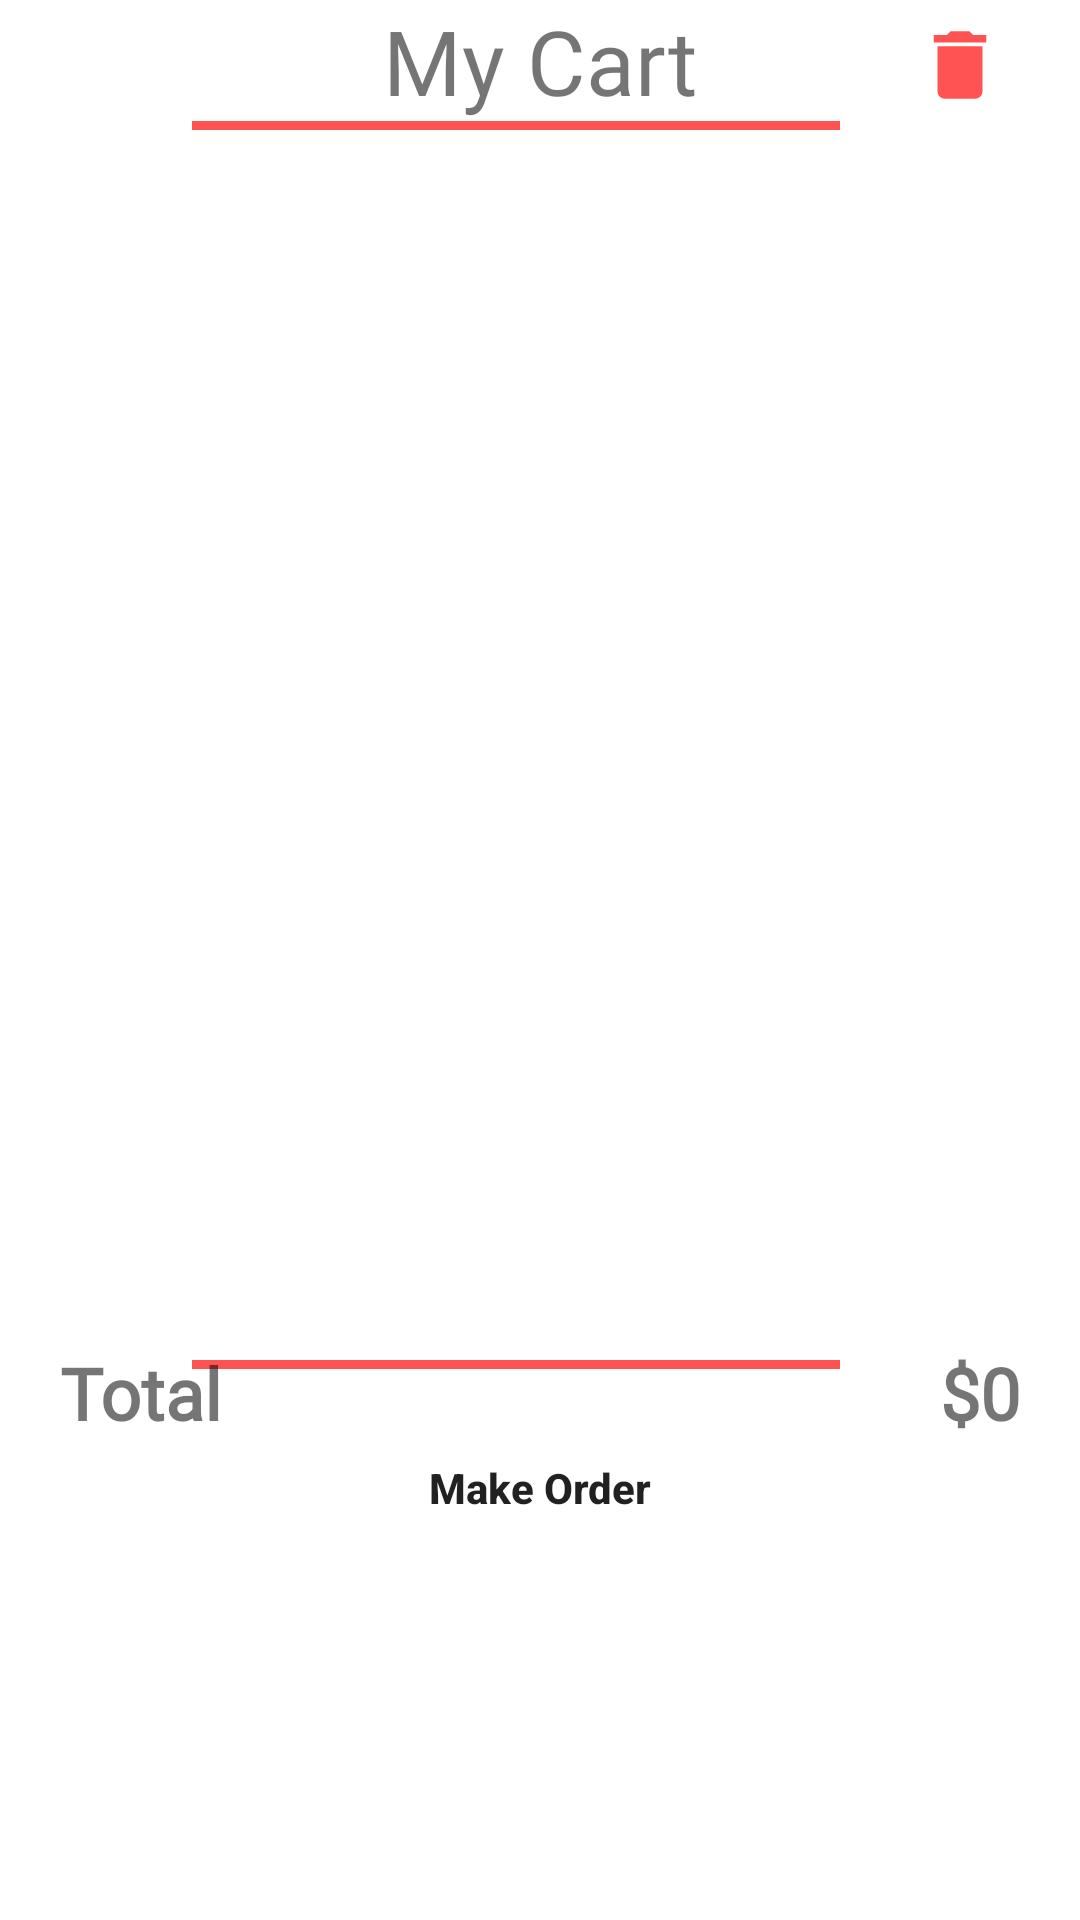

Icon click points for this 1080 x 1920 phone screenshot, format [x,y]:
delete: [960,65]
